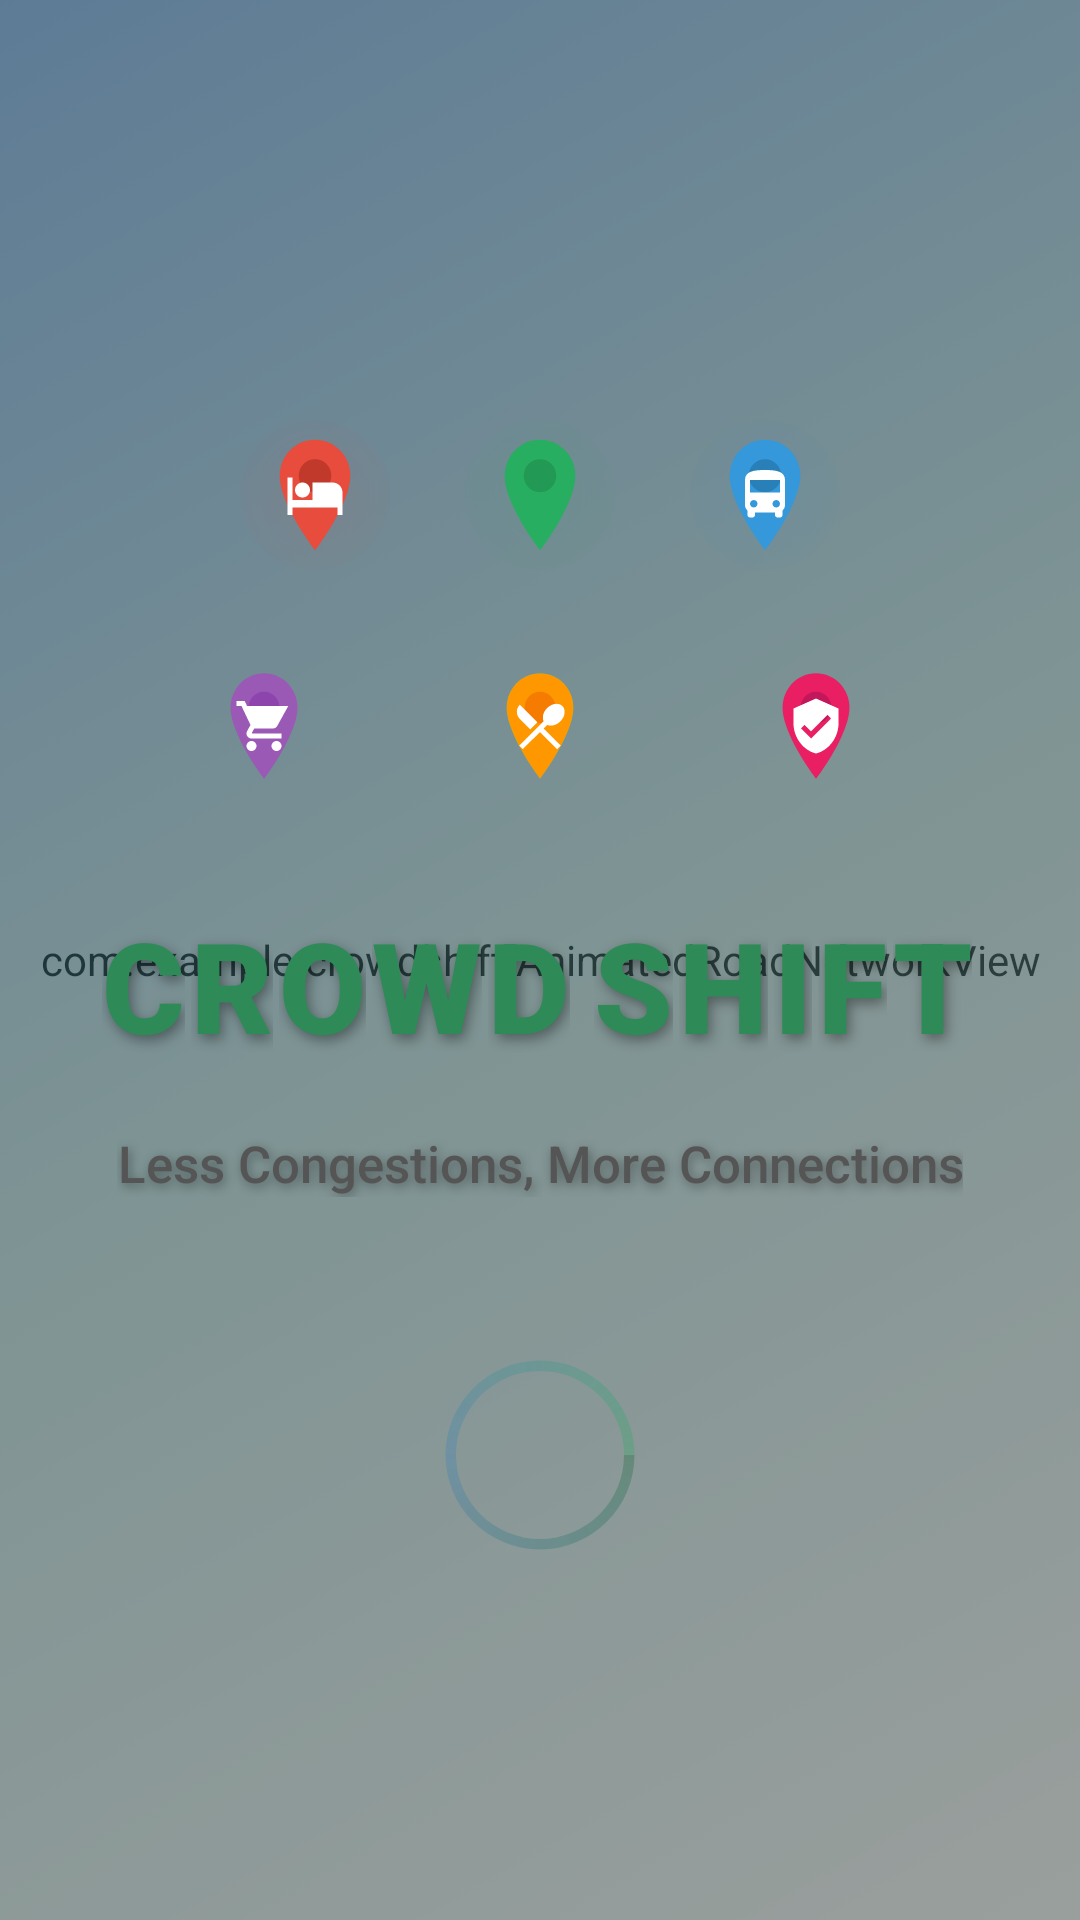

Where icons sit on this 1080*1920 app screen, as (x1, y1, x2, y2):
Security: (782, 673, 850, 779)
Shopping: (231, 673, 297, 778)
